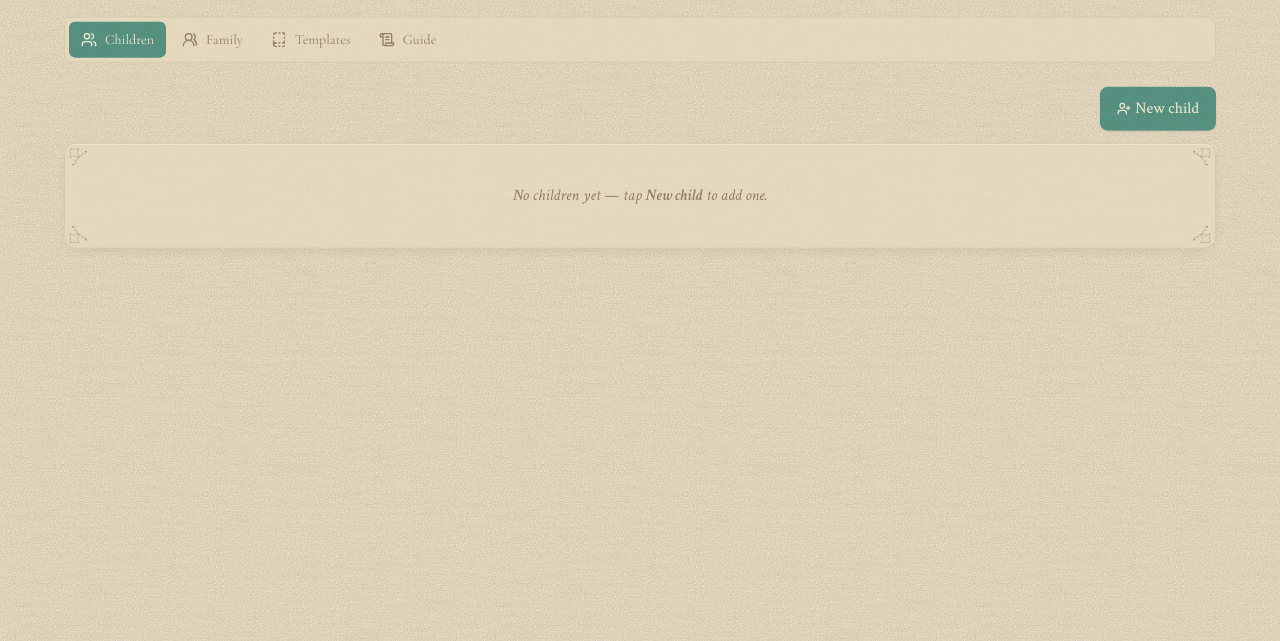
Test: Manage › switches to the guide tab
Click the tab "Guide" at (408, 40), box [367, 22, 448, 58]
(page scrolled)
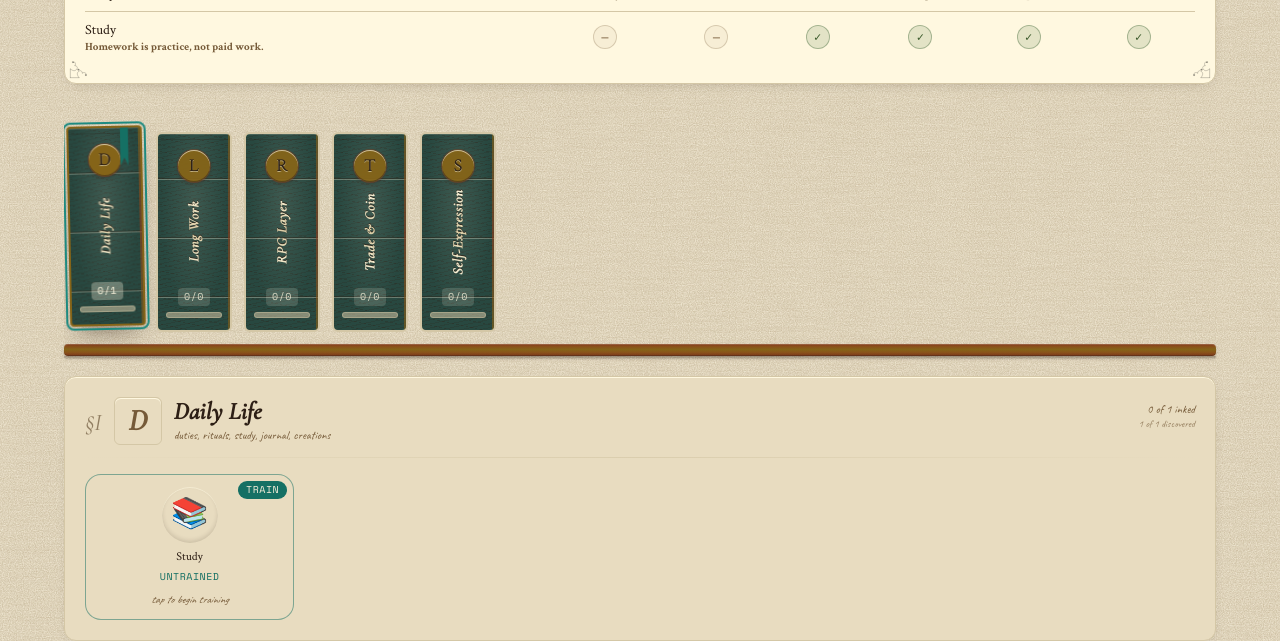
Now the button "train 📚 Study untrained tap to begin training" is shown, box [85, 474, 294, 620]
